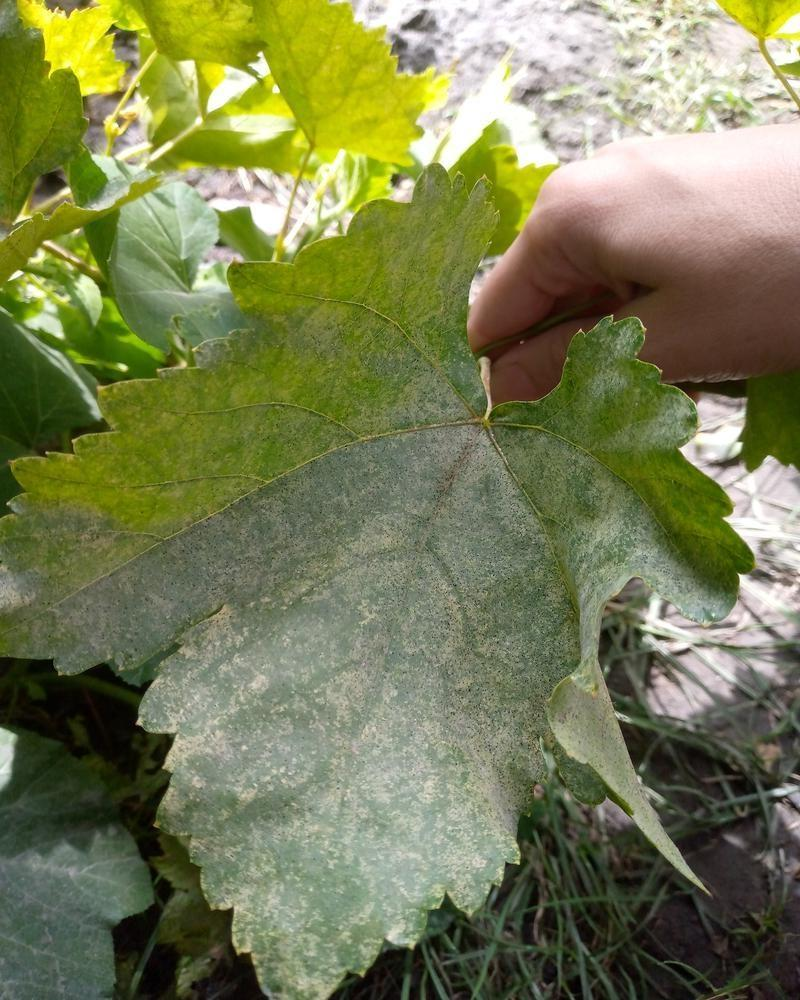Powdery-Mildew: (239, 675, 527, 982), (346, 424, 523, 638), (51, 469, 194, 612), (163, 663, 306, 806)
